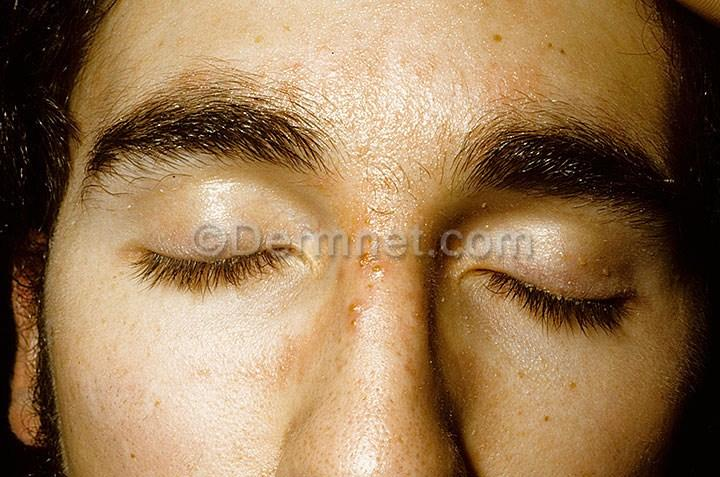Eczema: (553, 243, 664, 320)
